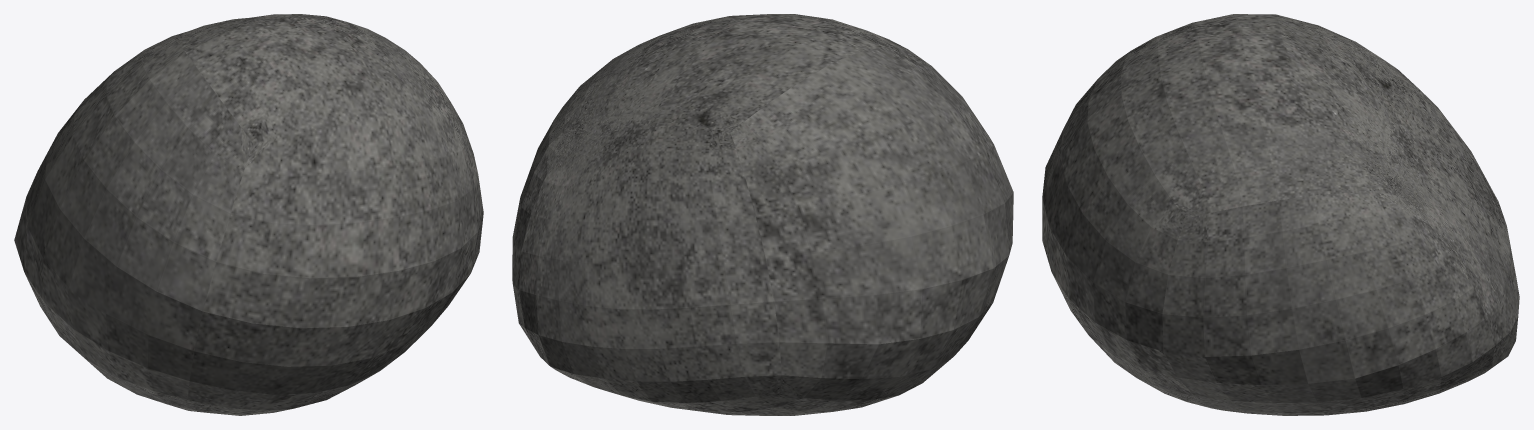
File: Rock2.fbx
3 views of the same model, side by side, from view 1: azimuth 30°, elevation 25°; view 2: azimuth 150°, elevation 25°; view 3: azimuth 270°, elevation 25° (orthographic).
Parts seen in each view (by area): view 1: Rock2; view 2: Rock2; view 3: Rock2.
Boxes of the visible parts, box(x1,y1,x2,y2) form: Rock2: box(14, 14, 483, 415); Rock2: box(512, 14, 1013, 415); Rock2: box(1042, 14, 1519, 415).
Bounding box in the file's own units: 30.69 × 25.03 × 30.82.
1 material, 1 textured.
